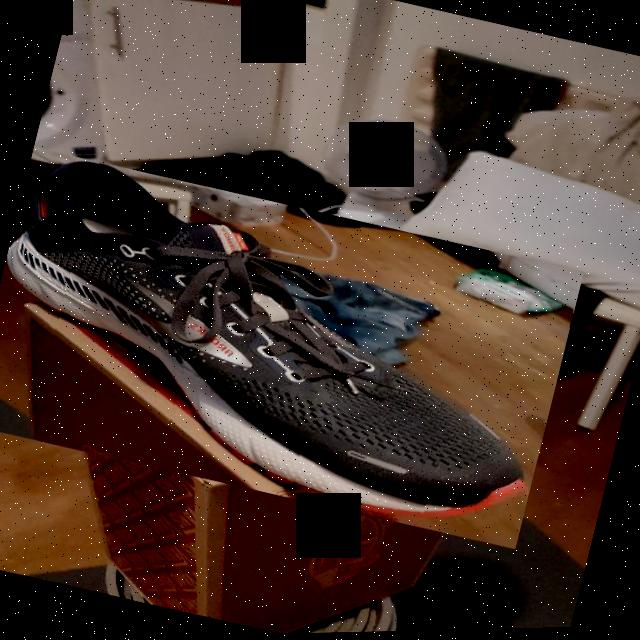shoe: (0, 137, 583, 560)
